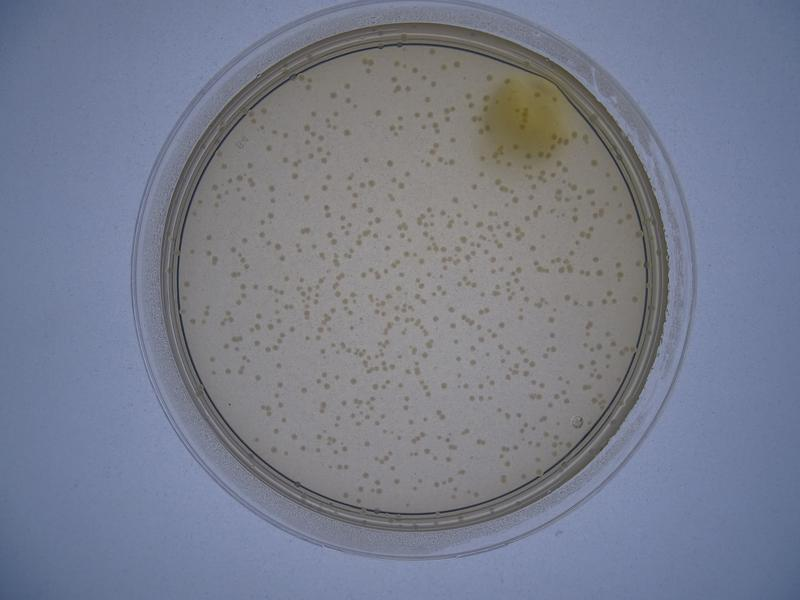colony: (385, 156, 395, 168), (373, 106, 383, 118), (204, 231, 214, 242), (301, 192, 311, 203), (431, 313, 441, 324), (438, 380, 448, 390), (267, 183, 277, 193), (469, 180, 478, 191), (497, 319, 506, 329), (290, 171, 300, 180), (299, 385, 308, 395), (239, 235, 248, 244), (547, 330, 556, 339), (274, 362, 284, 370)
